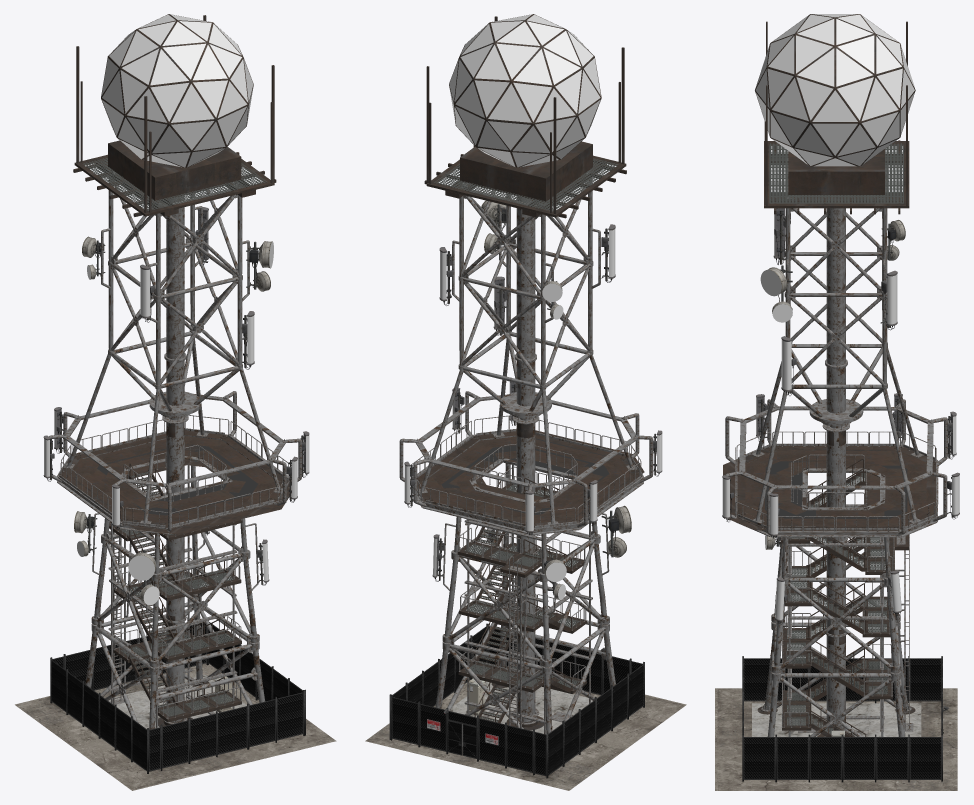
Rendered from RelayTower.FBX.
3 renders of one model, left to right at view 1: azimuth 30°, elevation 25°; view 2: azimuth 150°, elevation 25°; view 3: azimuth 270°, elevation 25°, orthographic. The views are drawn at different scales.
Visible parts, largest first — view 1: tower, fence, ground; view 2: tower, fence, ground; view 3: tower, fence, ground.
Boxes of the visible parts, box(x1,y1,x2,y2) form: tower: box(43, 14, 309, 769); fence: box(50, 620, 305, 773); ground: box(15, 663, 336, 790); tower: box(399, 14, 662, 770); fence: box(389, 623, 644, 778); ground: box(365, 671, 686, 790); tower: box(722, 14, 959, 736); fence: box(742, 656, 942, 782); ground: box(715, 688, 957, 790).
Bounding box in the file's own units: 14.06 × 46.22 × 14.13.
